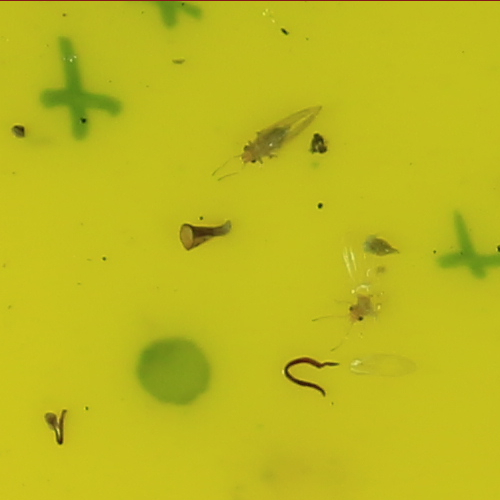psylla: (236, 120, 290, 166), (342, 293, 377, 326)
